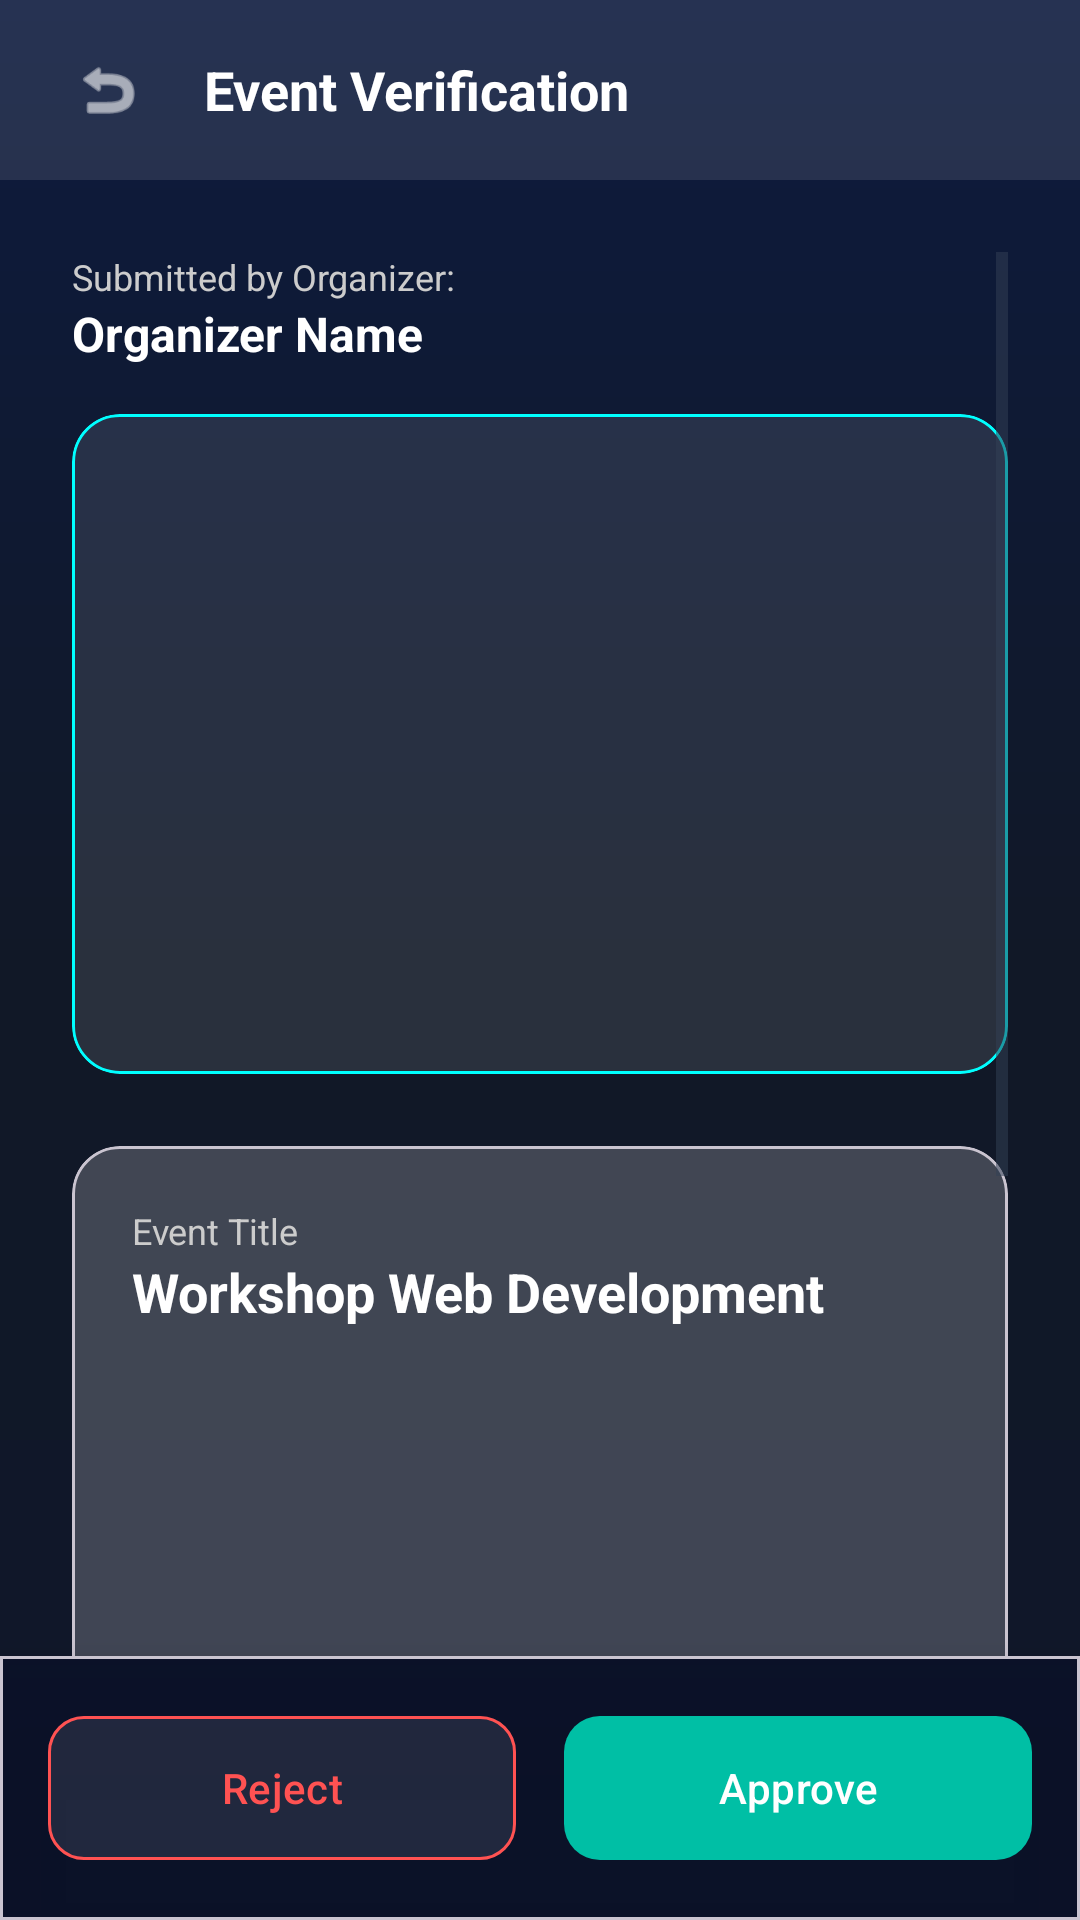

Locate icon controls on the screen. Image size 1080px×1920px, boxes as BBox(x1, y1, x2, y2).
revert: BBox(83, 67, 135, 114)
